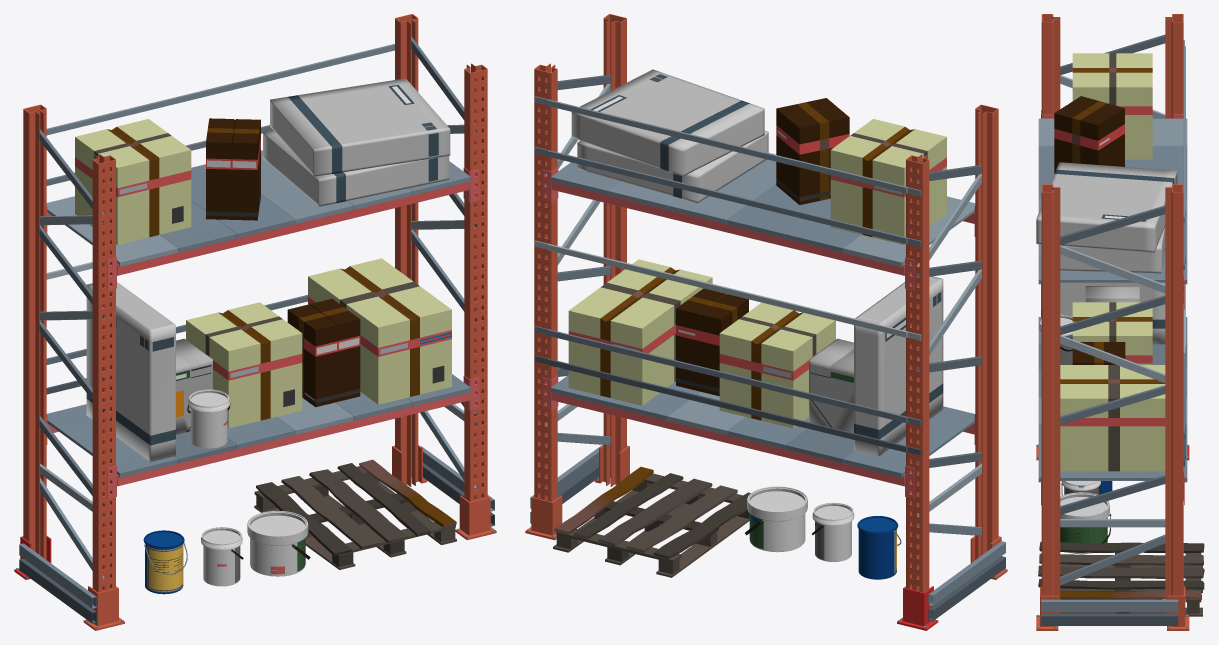
Rendered from SM_Aisle_Red_B.fbx.
The picture shows the model from 3 angles, left to right: view 1: azimuth 30°, elevation 25°; view 2: azimuth 150°, elevation 25°; view 3: azimuth 270°, elevation 25°; orthographic projection. The views are drawn at different scales.
Visible parts, largest first — view 1: SM_Aisle_Red_B; view 2: SM_Aisle_Red_B; view 3: SM_Aisle_Red_B.
Boxes of the visible parts, x1,y1,x2,y2 form: SM_Aisle_Red_B: [14, 14, 496, 630]; SM_Aisle_Red_B: [525, 14, 1007, 630]; SM_Aisle_Red_B: [1036, 14, 1204, 630].
Size of the model in its own units: 336 by 371 by 130.
